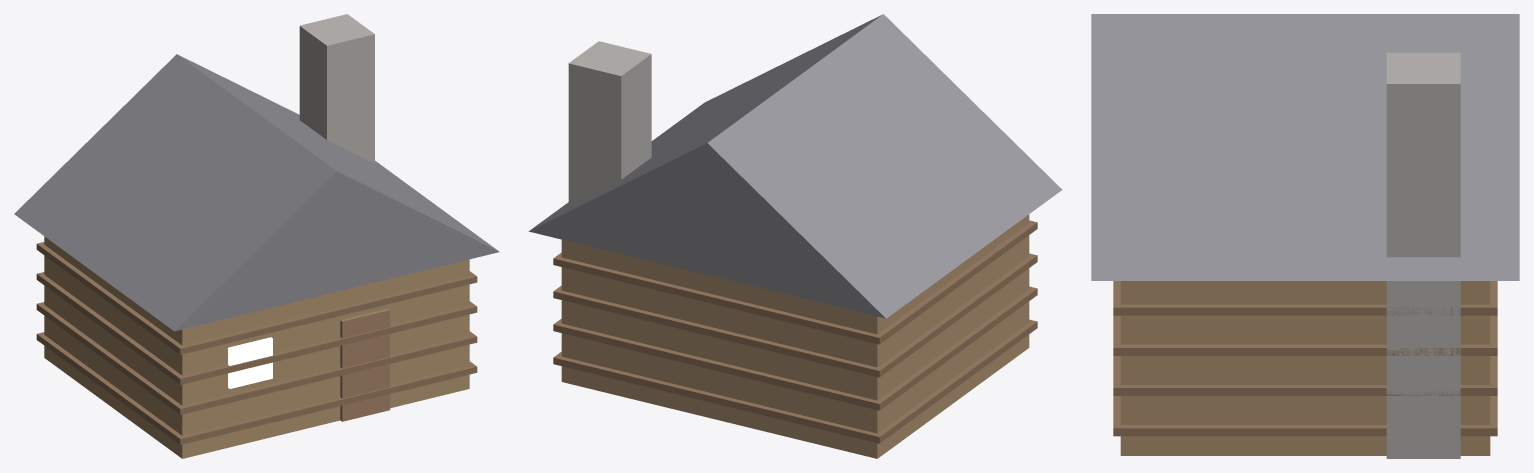
File: cabin.glb
The picture shows the model from 3 angles, left to right: view 1: azimuth 30°, elevation 25°; view 2: azimuth 150°, elevation 25°; view 3: azimuth 270°, elevation 25°; orthographic projection. The views are drawn at different scales.
Visible parts, largest first — view 1: cabin; view 2: cabin; view 3: cabin.
Boxes of the visible parts, x1,y1,x2,y2 form: cabin: (14,14,499,458); cabin: (528,14,1062,458); cabin: (1091,14,1519,458).
Size of the model in its own units: 6.8 by 5.6 by 5.8.
